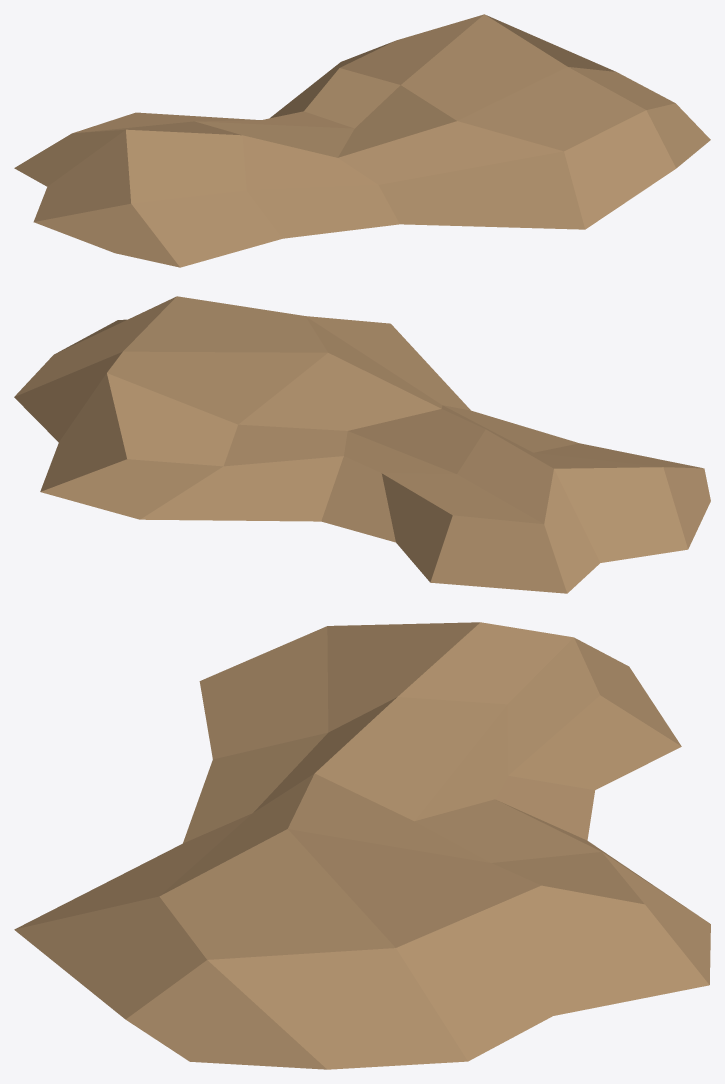
The model's file is crypt_candle_blob.gltf.
3 renders of one model, top to bottom at view 1: azimuth 30°, elevation 25°; view 2: azimuth 150°, elevation 25°; view 3: azimuth 270°, elevation 25°, orthographic. The views are drawn at different scales.
Parts seen in each view (by area): view 1: crypt_candle_blob; view 2: crypt_candle_blob; view 3: crypt_candle_blob.
Boxes of the visible parts, box(x1,y1,x2,y2) form: crypt_candle_blob: box(14, 14, 710, 267); crypt_candle_blob: box(14, 296, 710, 593); crypt_candle_blob: box(14, 622, 710, 1069).
Bounding box in the file's own units: 0.4862 × 0.0552 × 0.3263.
1 material, 1 textured.
